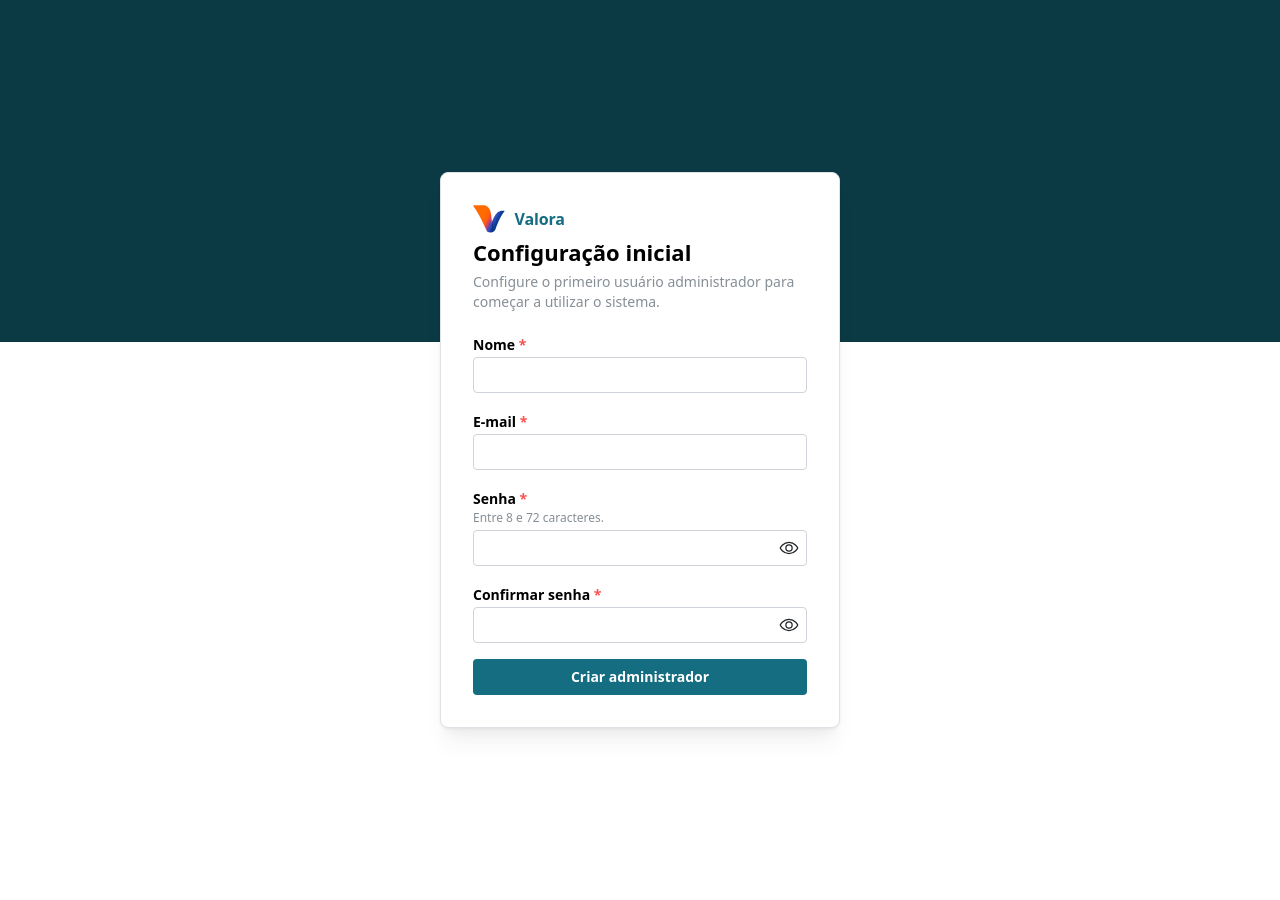
Scenario: configuração inicial › cria o ADMIN e vai ao login com aviso de sucesso, sem voltar à configuração
Type "  Admin Teste " into the field labelled "Nome *".
click(640, 375); type("  Admin Teste ")  # box x1=473 y1=357 x2=807 y2=393
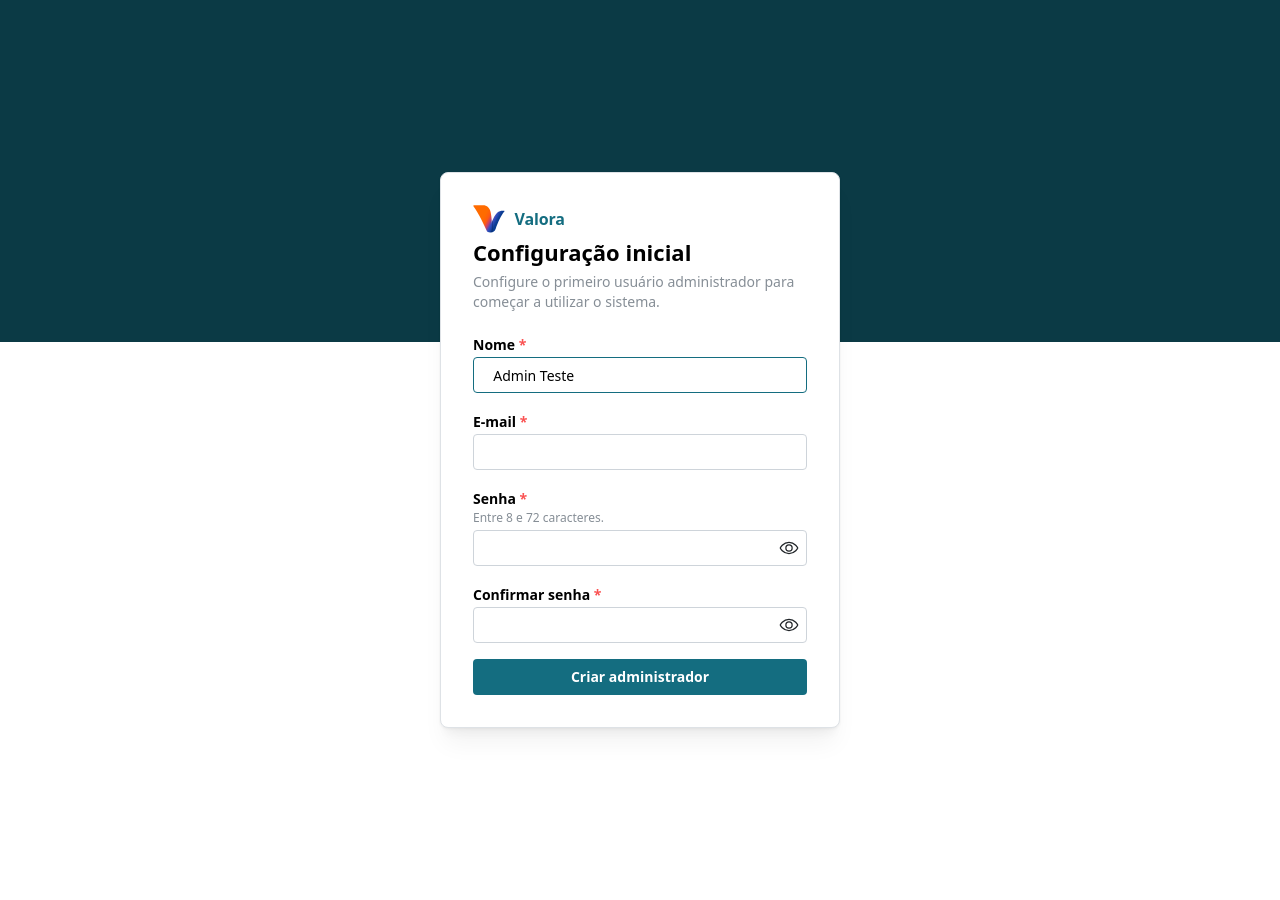
Type "admin@teste.local" into the field labelled "E-mail *".
click(640, 452); type("admin@teste.local")  # box x1=473 y1=434 x2=807 y2=470
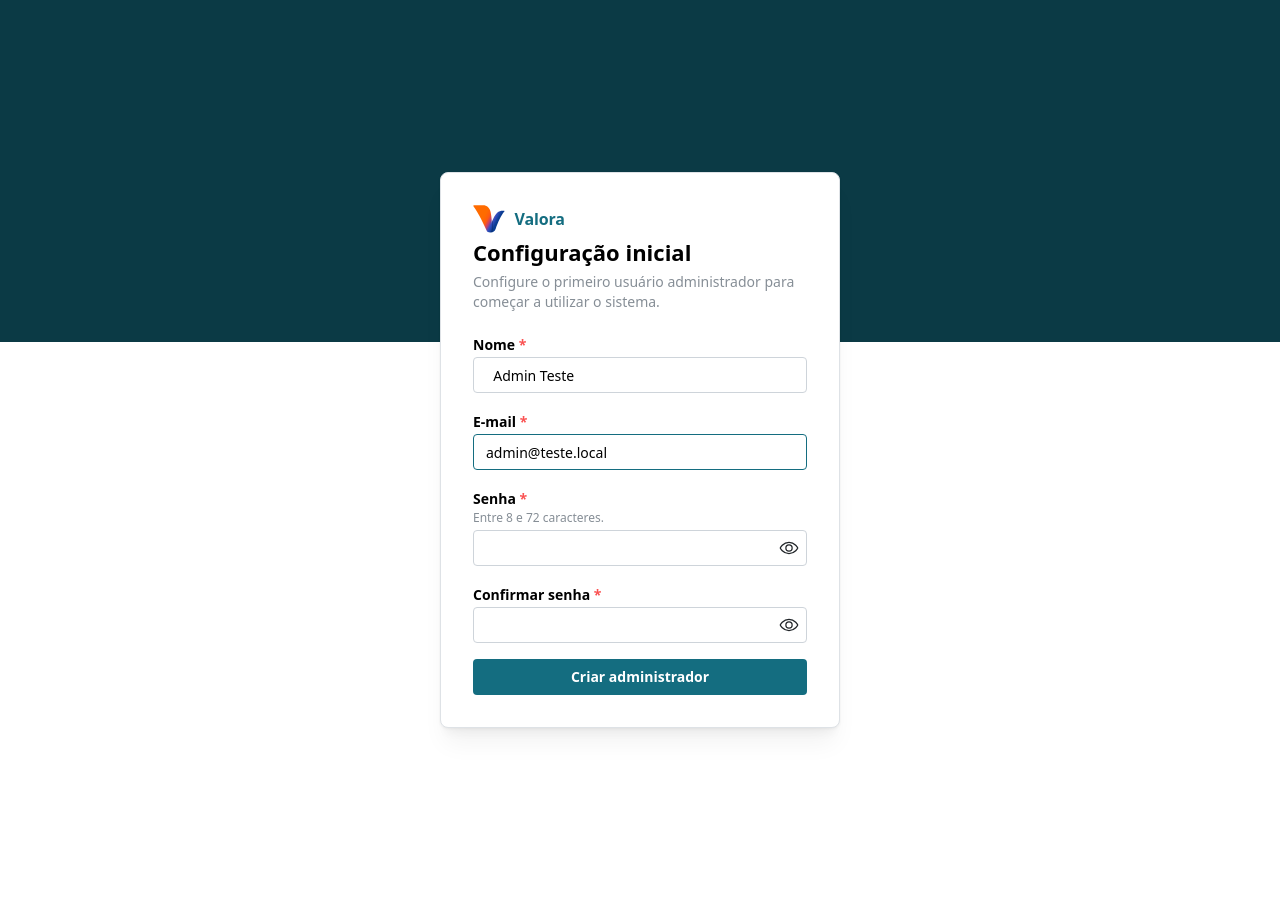
Type "senha-de-teste" into the password field labelled "Senha *".
click(640, 548); type("senha-de-teste")  # box x1=474 y1=531 x2=806 y2=565
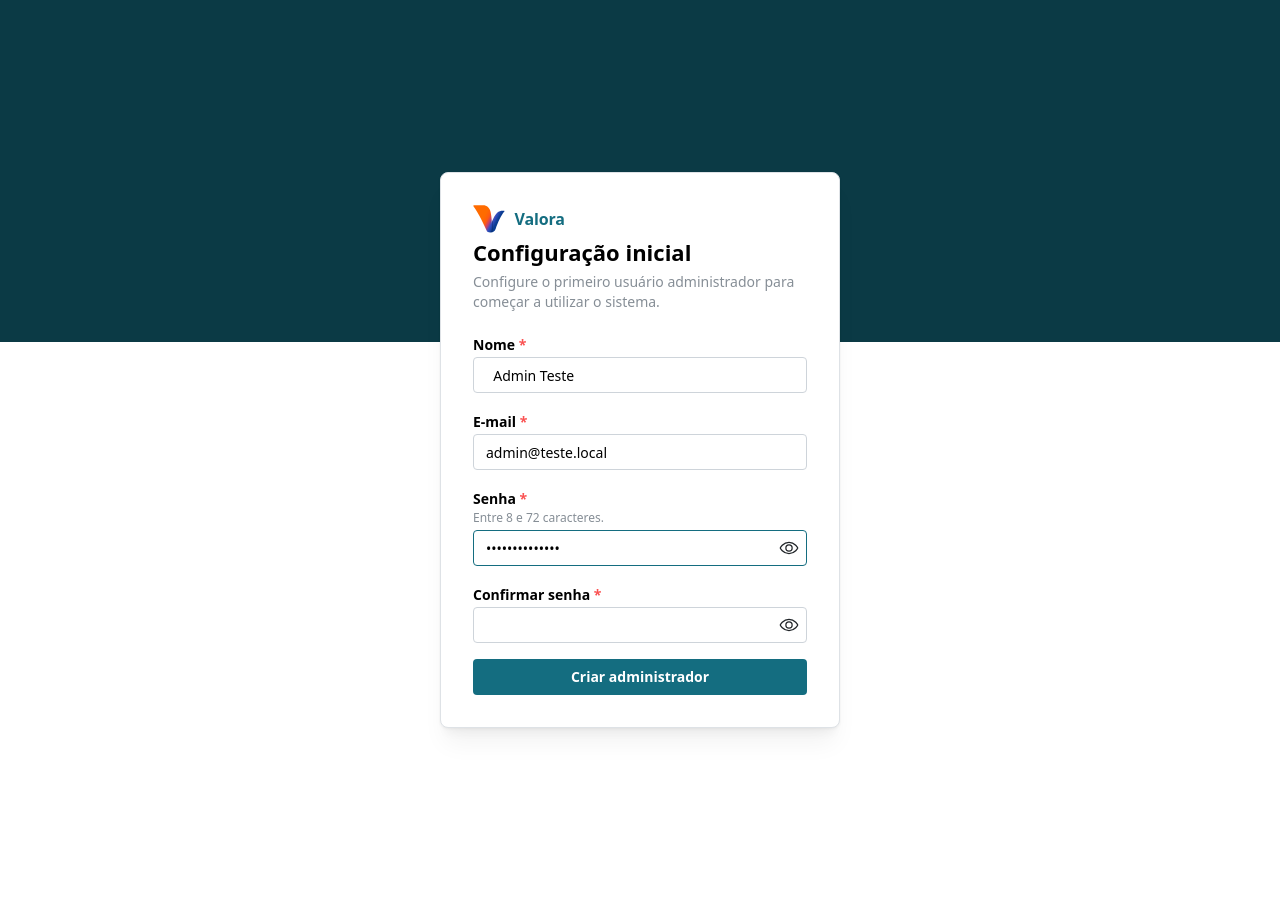
Type "senha-de-teste" into the password field labelled "Confirmar senha *".
click(640, 625); type("senha-de-teste")  # box x1=474 y1=608 x2=806 y2=642
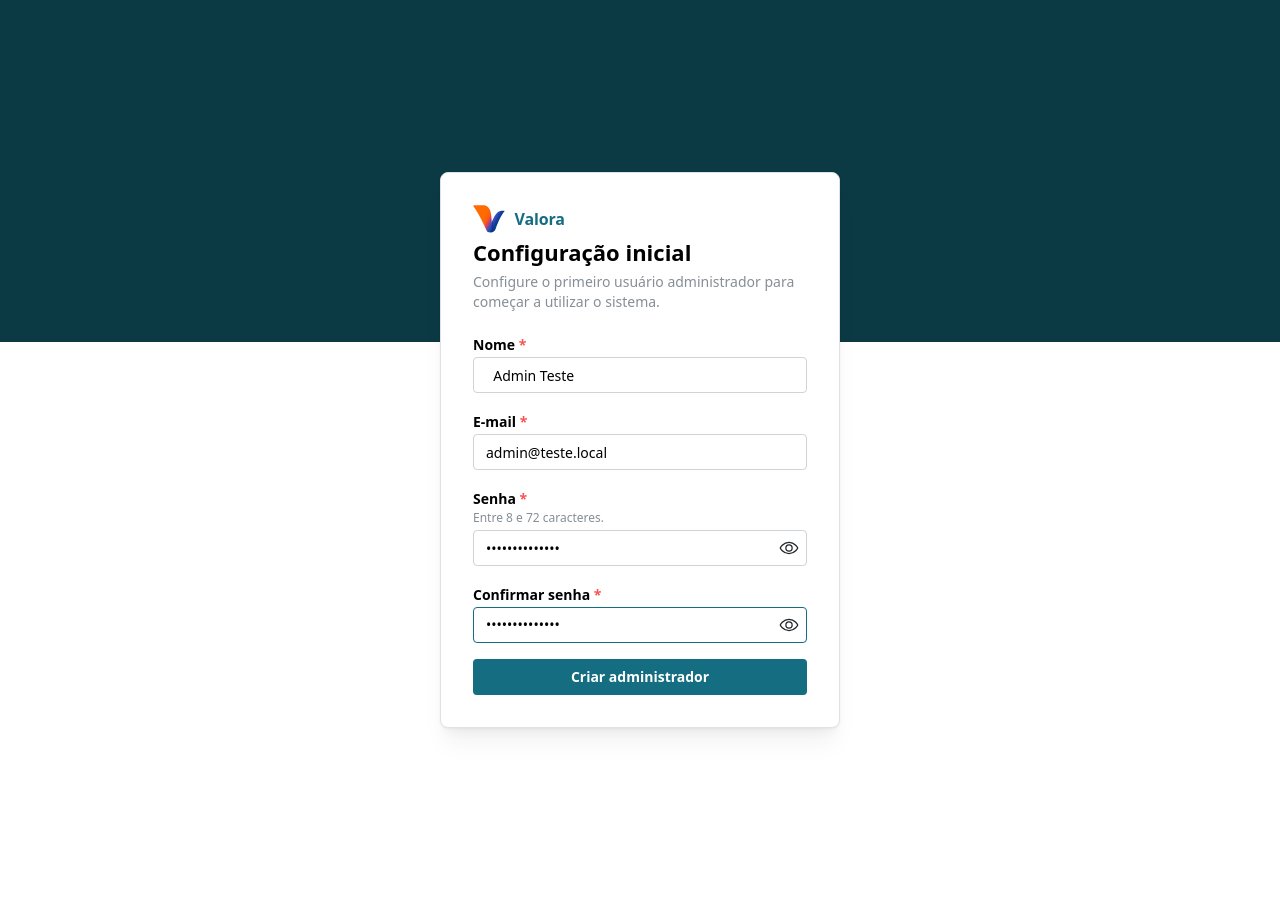
Click the button "Criar administrador".
click(640, 677)  # box x1=473 y1=659 x2=807 y2=695
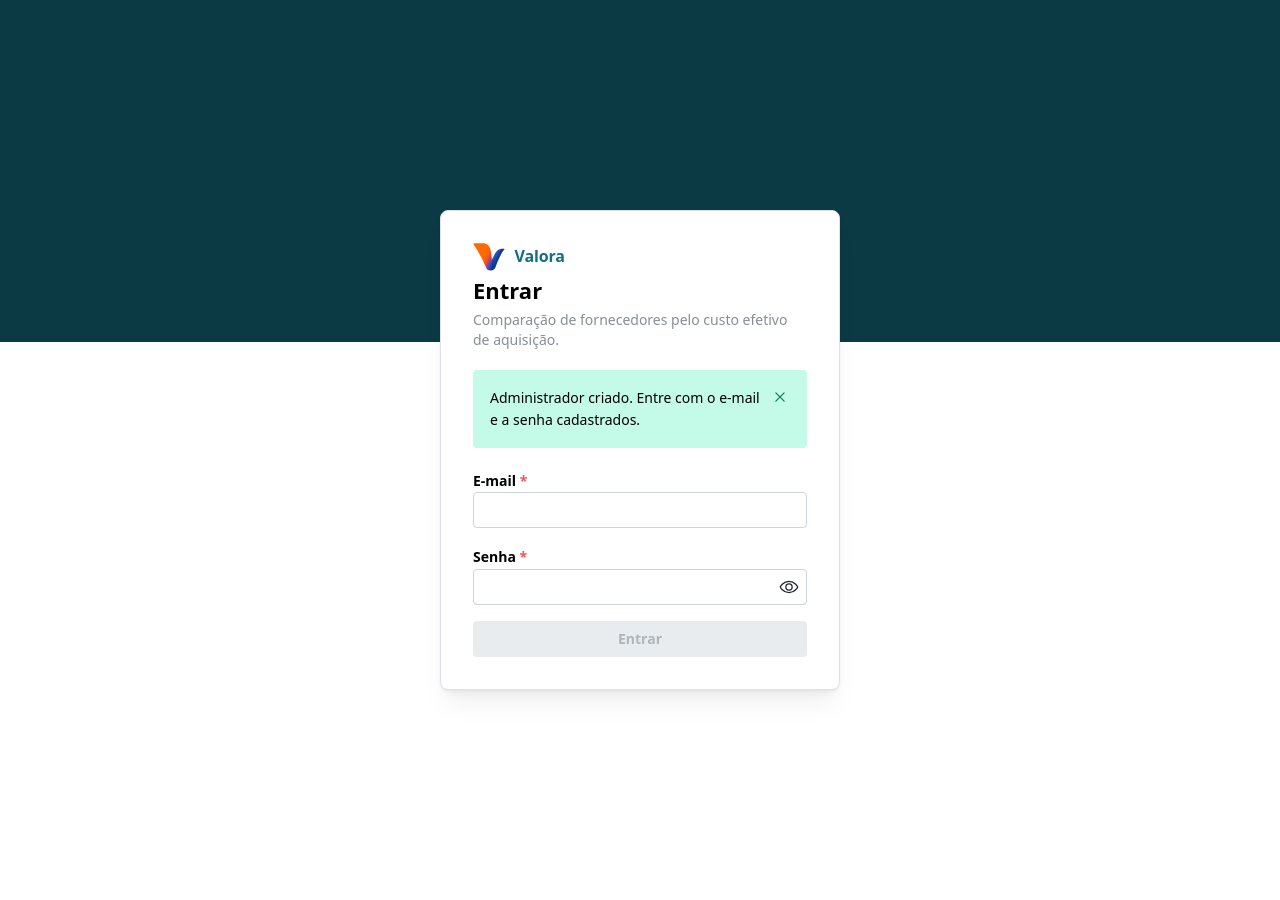
Now the heading "Entrar" is shown, box x1=473 y1=275 x2=542 y2=305
Now the text "Administrador criado. Entre com o e-mail e a senha cadastrados." is shown, box x1=490 y1=387 x2=770 y2=431
Now the field labelled "E-mail *" is empty, box x1=473 y1=492 x2=807 y2=528
